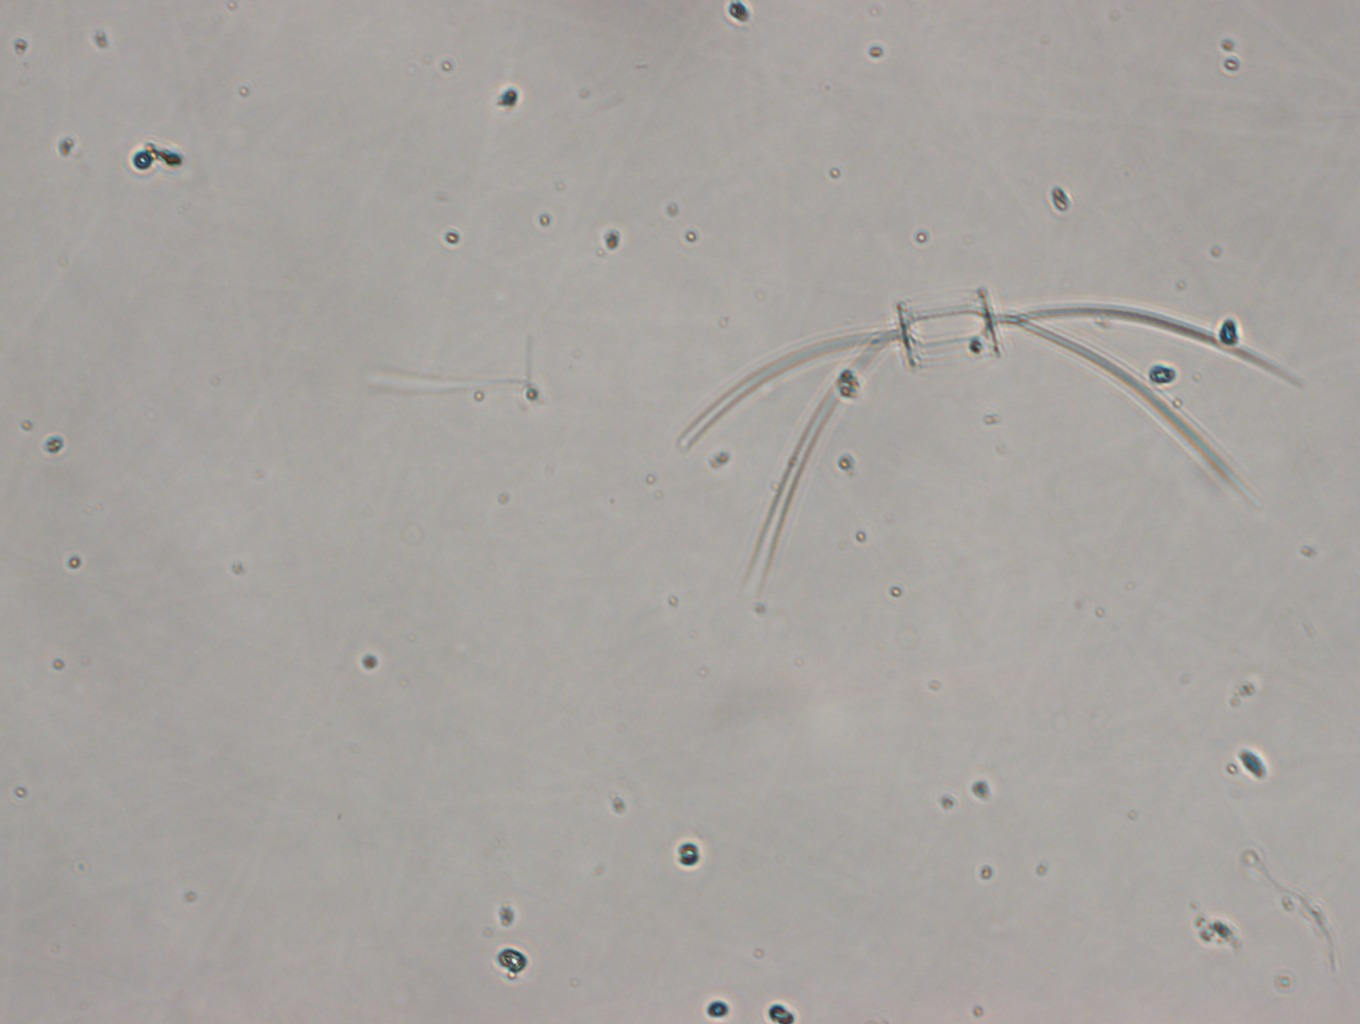chaetoceros: (669, 285, 1303, 614)
